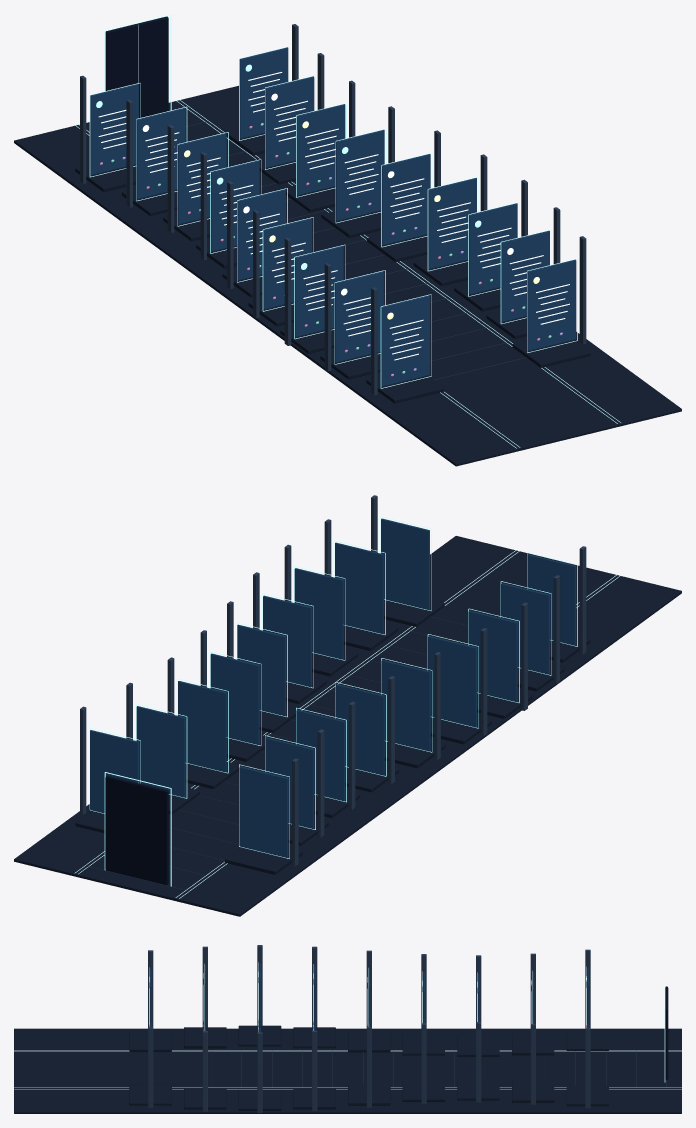
The model's file is signal.glb.
3 views of the same model, one above another, from view 1: azimuth 30°, elevation 25°; view 2: azimuth 150°, elevation 25°; view 3: azimuth 270°, elevation 25° (orthographic). The views are drawn at different scales.
Visible parts, largest first — view 1: Reflective channel, Unopened threshold, Timeline pane.009, Timeline pane, Timeline pane.014, Timeline pane.013, Timeline pane.012, Timeline pane.015, Timeline pane.008, Timeline pane.001, Timeline pane.007, Timeline pane.011 (+29 smaller); view 2: Reflective channel, Unopened threshold, Timeline pane.008, Timeline pane.009, Timeline pane.016, Timeline pane.015, Timeline pane.010, Timeline pane.004, Timeline pane.003, Timeline pane.014, Timeline pane.002, Timeline pane.011 (+28 smaller); view 3: Reflective channel, Timeline plinth.002, Timeline plinth.005, Timeline plinth.008, Timeline plinth.017, Timeline plinth.003, Timeline plinth.001, Timeline plinth.011, Timeline plinth.012, Timeline plinth.015, Timeline plinth.004, Timeline plinth.007 (+30 smaller).
Part boxes in pixels (box(x1,y1,x2,y2)): Reflective channel: box(14, 85, 681, 466); Unopened threshold: box(105, 16, 168, 118); Timeline pane.009: box(527, 259, 576, 350); Timeline pane: box(381, 295, 429, 386); Timeline pane.014: box(336, 129, 384, 221); Timeline pane.013: box(382, 154, 430, 245); Timeline pane.012: box(428, 178, 476, 269); Timeline pane.015: box(296, 104, 345, 195); Timeline pane.008: box(90, 84, 138, 175); Timeline pane.001: box(335, 271, 383, 362); Timeline pane.007: box(136, 107, 185, 199); Timeline pane.011: box(469, 203, 517, 294); Reflective channel: box(14, 536, 681, 916); Unopened threshold: box(105, 775, 168, 885); Timeline pane.008: box(239, 766, 288, 857); Timeline pane.009: box(381, 518, 429, 609); Timeline pane.016: box(136, 706, 185, 797); Timeline pane.015: box(178, 681, 226, 772); Timeline pane.010: box(335, 542, 383, 634); Timeline pane.004: box(381, 660, 430, 751); Timeline pane.003: box(428, 636, 476, 727); Timeline pane.014: box(210, 653, 259, 744); Timeline pane.002: box(468, 610, 517, 702); Timeline pane.011: box(294, 568, 343, 659); Reflective channel: box(14, 1028, 681, 1113); Timeline plinth.002: box(238, 1025, 281, 1046); Timeline plinth.005: box(402, 1034, 444, 1055); Timeline plinth.008: box(566, 1030, 608, 1051); Timeline plinth.017: box(566, 1085, 608, 1106); Timeline plinth.003: box(293, 1027, 335, 1048); Timeline plinth.001: box(184, 1027, 226, 1048); Timeline plinth.011: box(238, 1090, 281, 1110); Timeline plinth.012: box(293, 1088, 335, 1109); Timeline plinth.015: box(457, 1079, 499, 1100); Timeline plinth.004: box(348, 1031, 390, 1052); Timeline plinth.007: box(512, 1034, 554, 1055).
Bounding box in the file's own units: 13.8 × 6.04 × 44.
